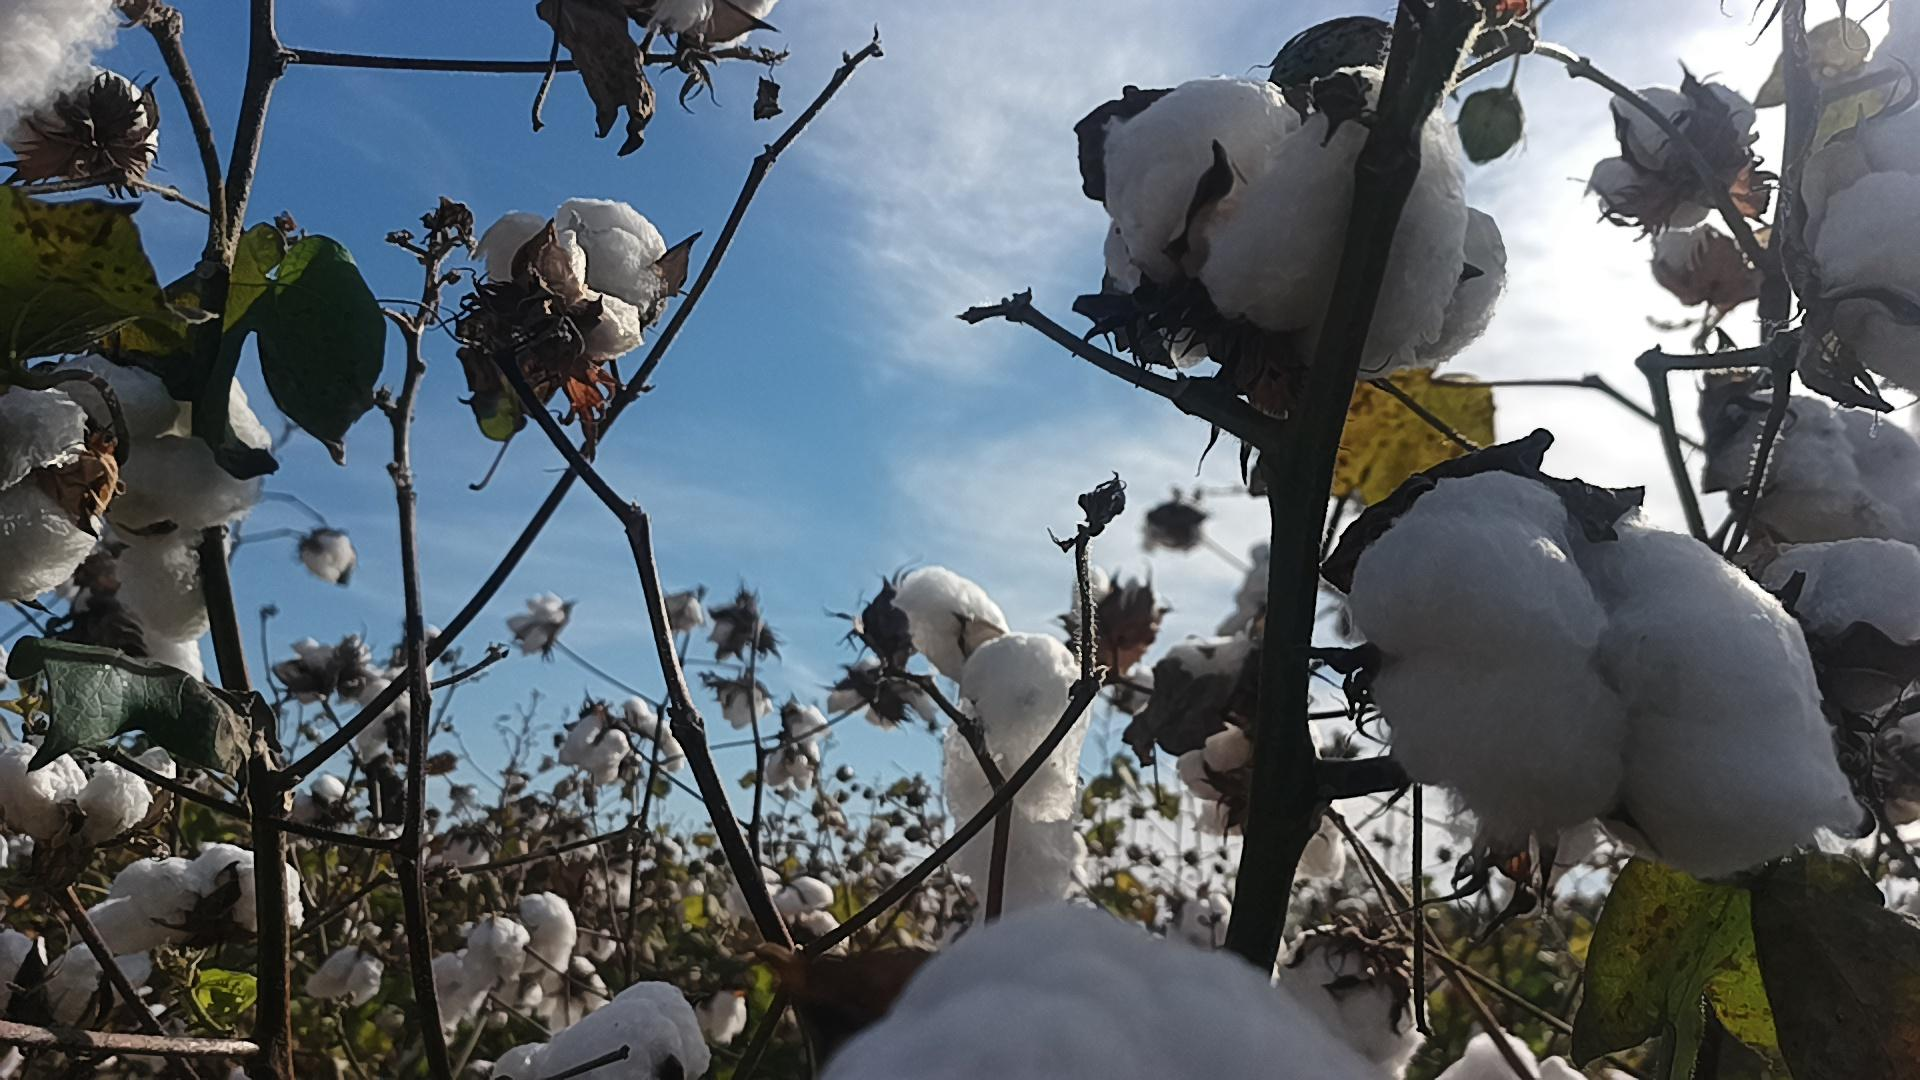cotton_ready: (1358, 473, 1855, 882), (1100, 71, 1506, 385), (818, 903, 1406, 1080), (890, 566, 1080, 924), (1166, 638, 1348, 882), (1811, 8, 1920, 404), (59, 353, 265, 527), (1705, 390, 1920, 543), (1735, 538, 1920, 711), (1590, 82, 1758, 228), (90, 845, 309, 955), (0, 385, 111, 601), (480, 198, 666, 323), (73, 533, 214, 682), (1282, 931, 1415, 1067), (512, 219, 645, 355), (530, 988, 711, 1080), (0, 0, 123, 136), (0, 741, 150, 839), (0, 938, 153, 1033), (473, 893, 580, 997), (1441, 1030, 1582, 1080), (650, 0, 773, 55)
